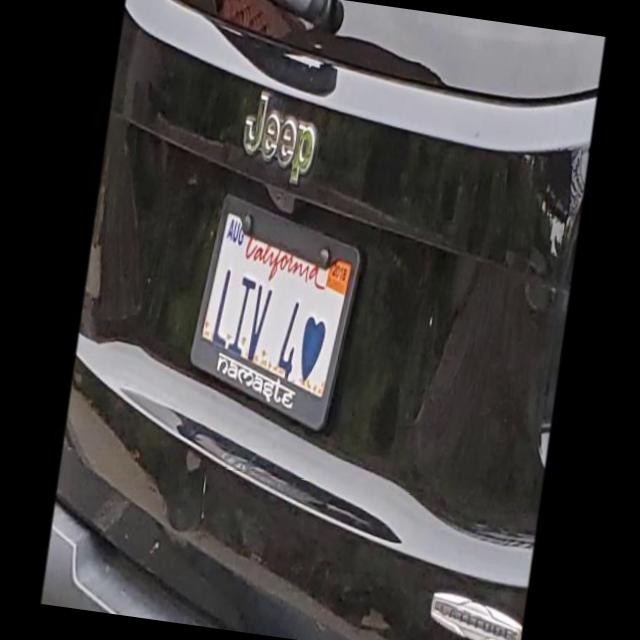LicensePlate: (178, 174, 378, 456)
